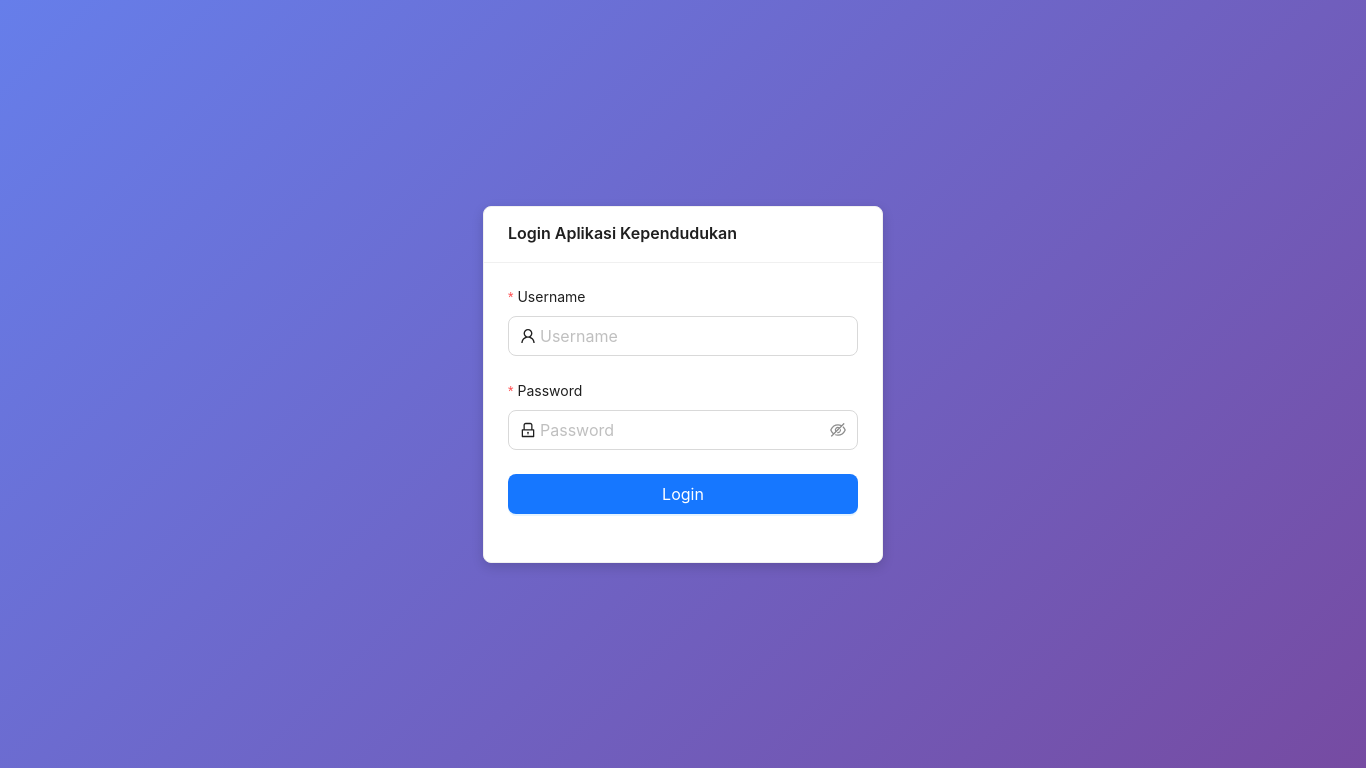
Test case: Aplikasi Kependudukan - Comprehensive Login Tests › Authentication Flow › should show error with empty username
Type "admin123!@#" into the password field with placeholder "Password". click: (683, 430)
box: [540,418,826,442]
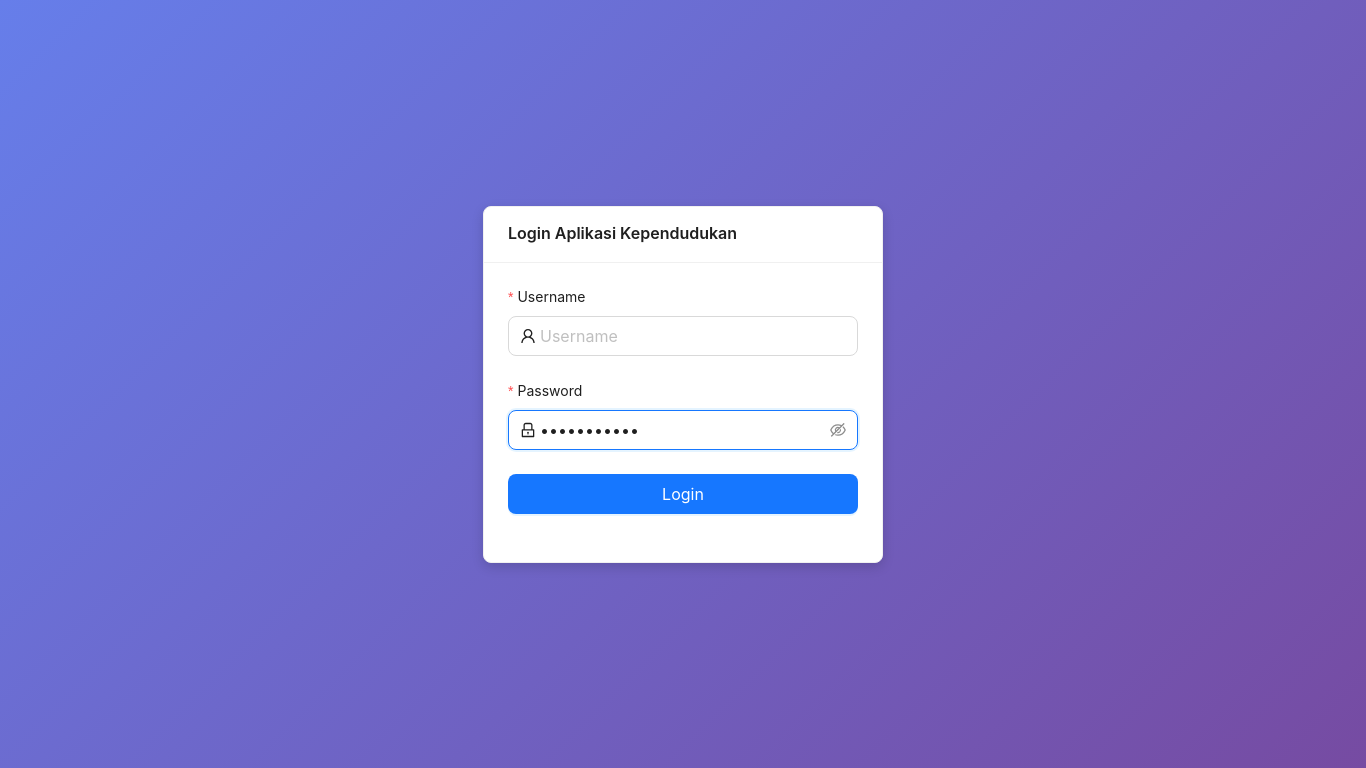
Click the submit button. click: (683, 494)
box: [508,474,858,514]
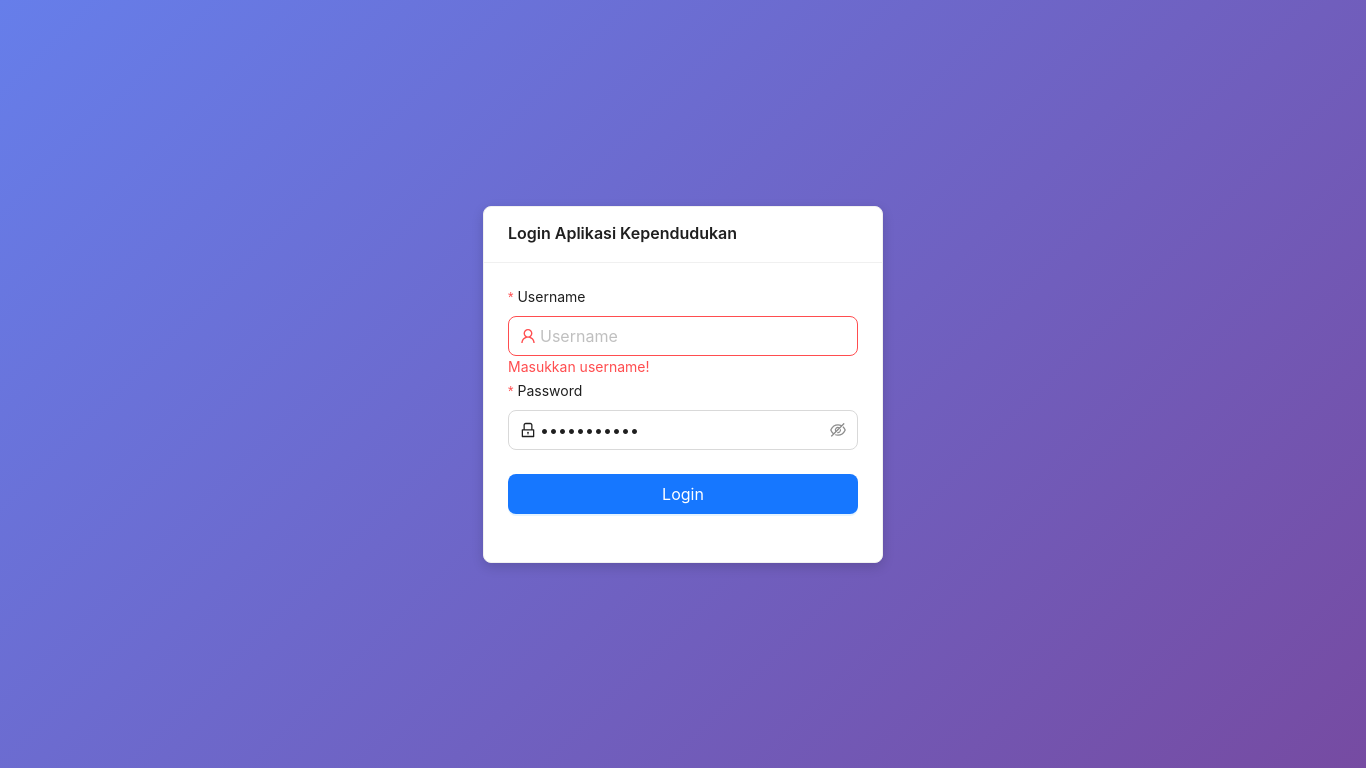
Now the text "Masukkan username!" is shown, box [508,358,650,374]
